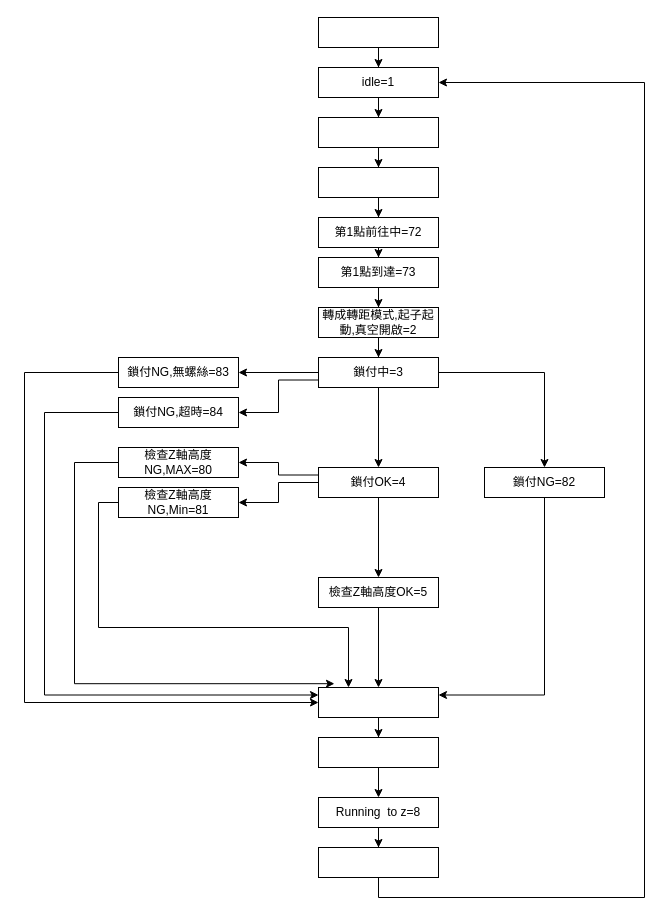
This 670x923 diagram has some shape labels left out. The centre of each missing label's shape, as x and y in pixels:
GO 0=7: pixel 378 752
GO to z done=9: pixel 378 862
go 第1點=71: pixel 378 182
Power on=0: pixel 378 32
位置設0=6: pixel 378 702
送螺絲停止=70: pixel 378 132
